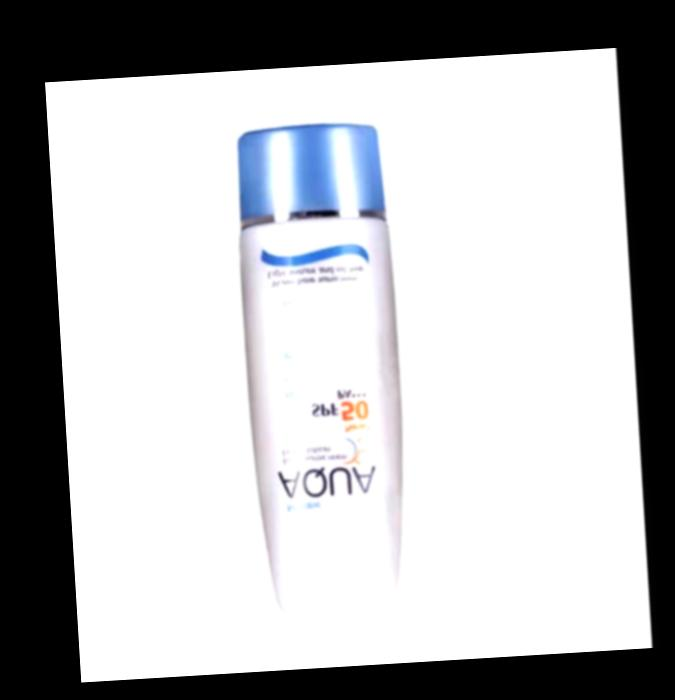cosmetic: (232, 121, 419, 613)
